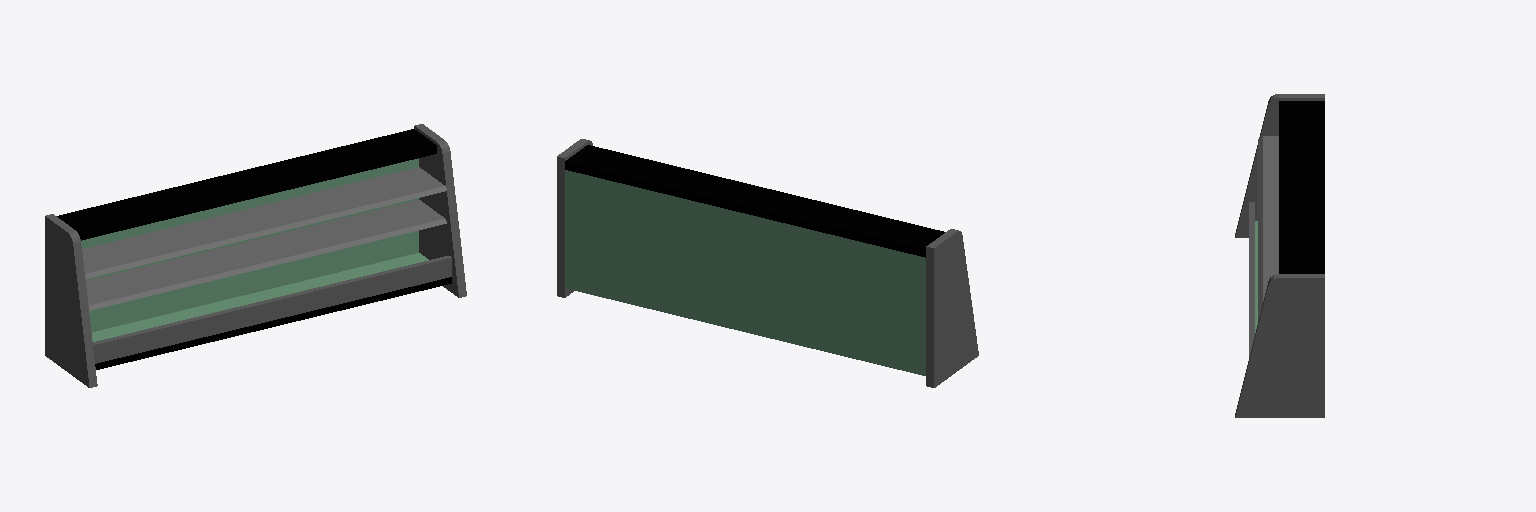
The model's file is Cooling_Unit.obj.
3 views of the same model, side by side, from view 1: azimuth 30°, elevation 25°; view 2: azimuth 150°, elevation 25°; view 3: azimuth 270°, elevation 25° (orthographic).
Parts seen in each view (by area): view 1: Box044; view 2: Box044; view 3: Box044.
Boxes of the visible parts, <box> form: Box044: <box>45,124,466,387</box>; Box044: <box>557,139,978,387</box>; Box044: <box>1235,94,1324,417</box>.
Bounding box in the file's own units: 526 × 186 × 108.